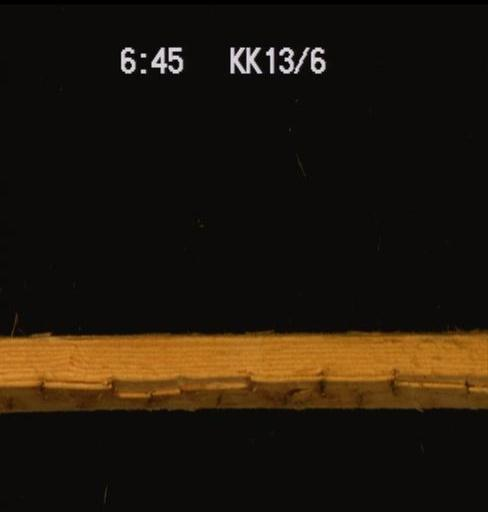wave: (0, 330, 486, 405)
